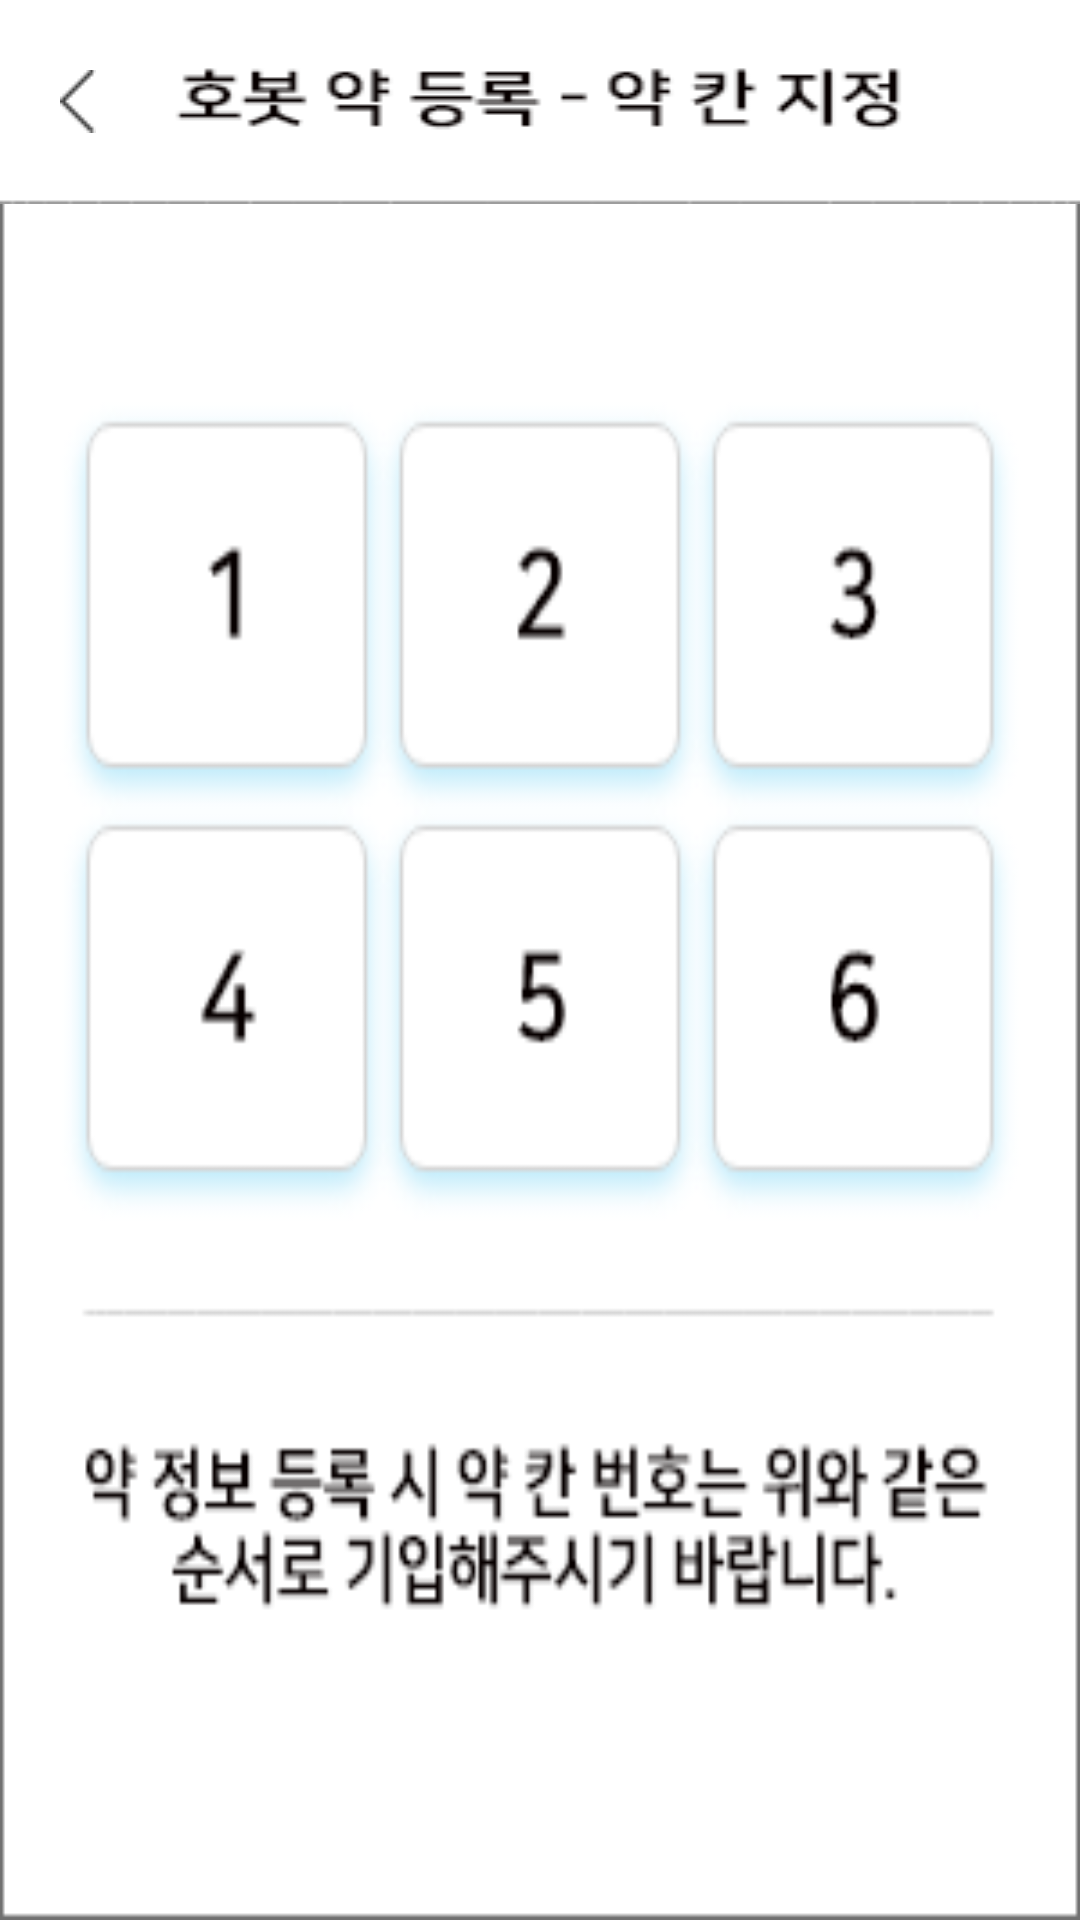

Locate icon controls on the screen. Image size 1080px x 1920px, boxes as (x1, y1, x2, y2).
back: (60, 70, 96, 133)
